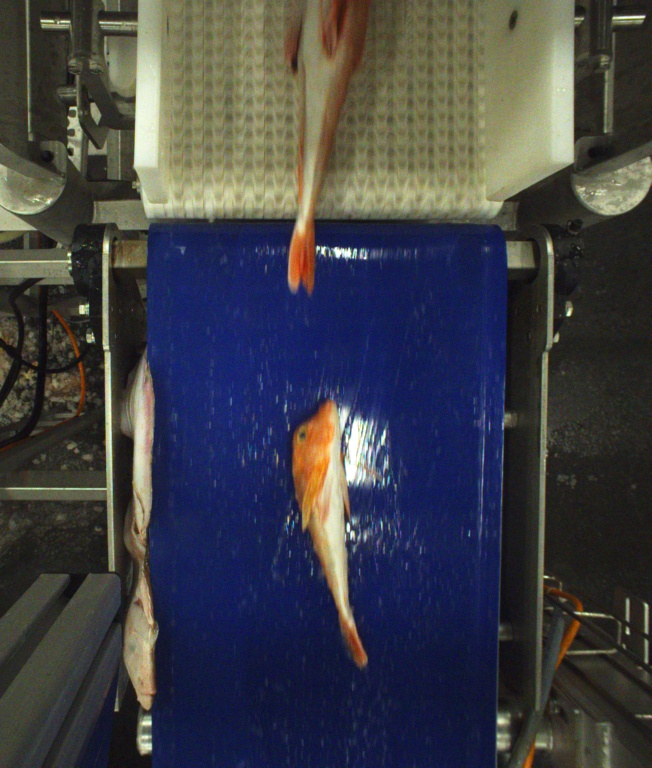GUU: (295, 398, 368, 666)
